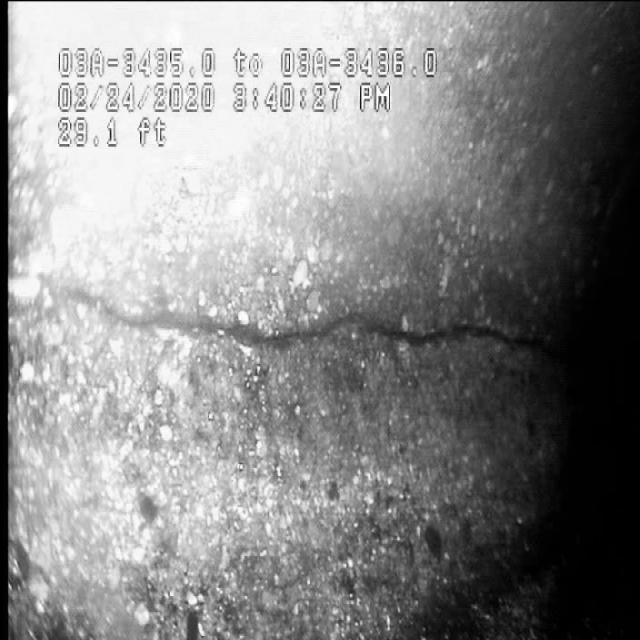Crack: (68, 222, 536, 408)
